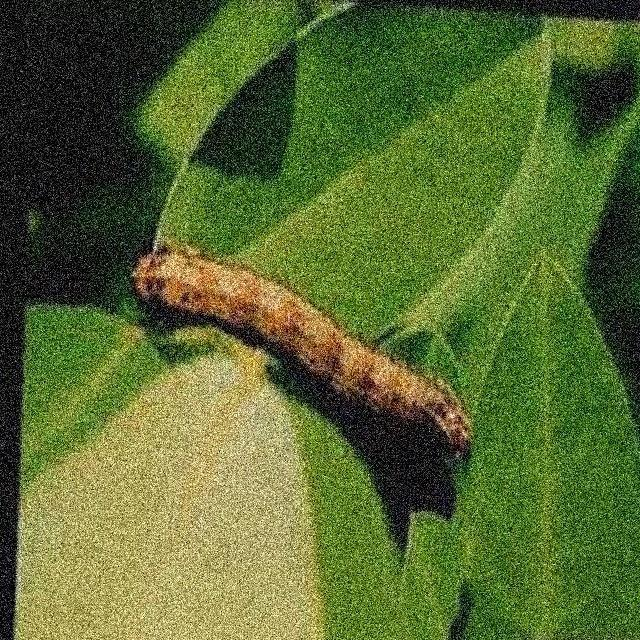gusano_cogollero: (119, 244, 482, 463)
